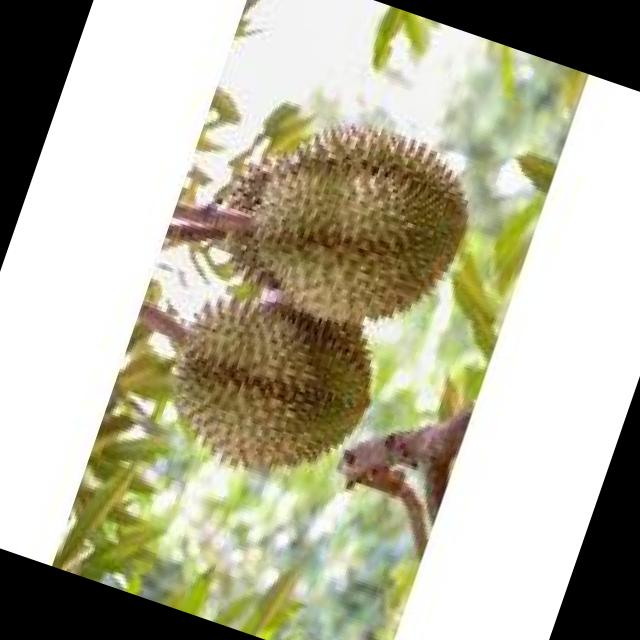fruit: (191, 68, 504, 376), (124, 256, 406, 525)
